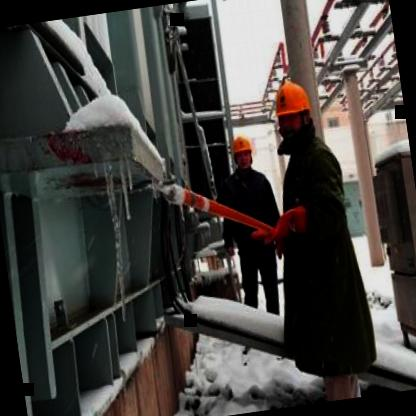helmet: (268, 76, 318, 142), (226, 128, 258, 174)
